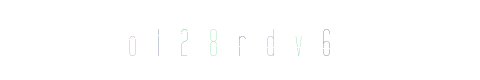2: (200, 0, 280, 80)
6: (233, 0, 313, 80)
8: (200, 0, 280, 80)
D: (217, 0, 297, 80)
L: (152, 0, 232, 80)
O: (115, 0, 195, 80)
R: (202, 0, 282, 80)
V: (225, 0, 305, 80)
